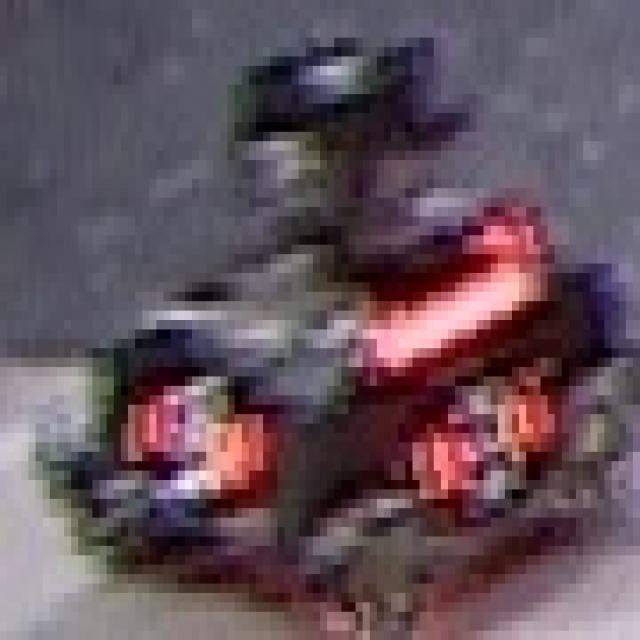B4: (107, 343, 263, 522), (398, 344, 569, 494)
